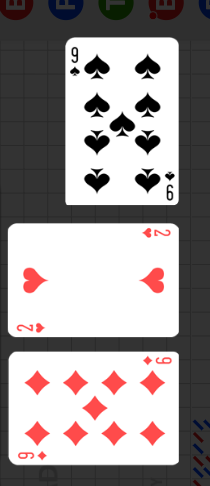9D: (17, 450, 49, 461)
9S: (69, 45, 82, 79), (164, 169, 176, 202)
